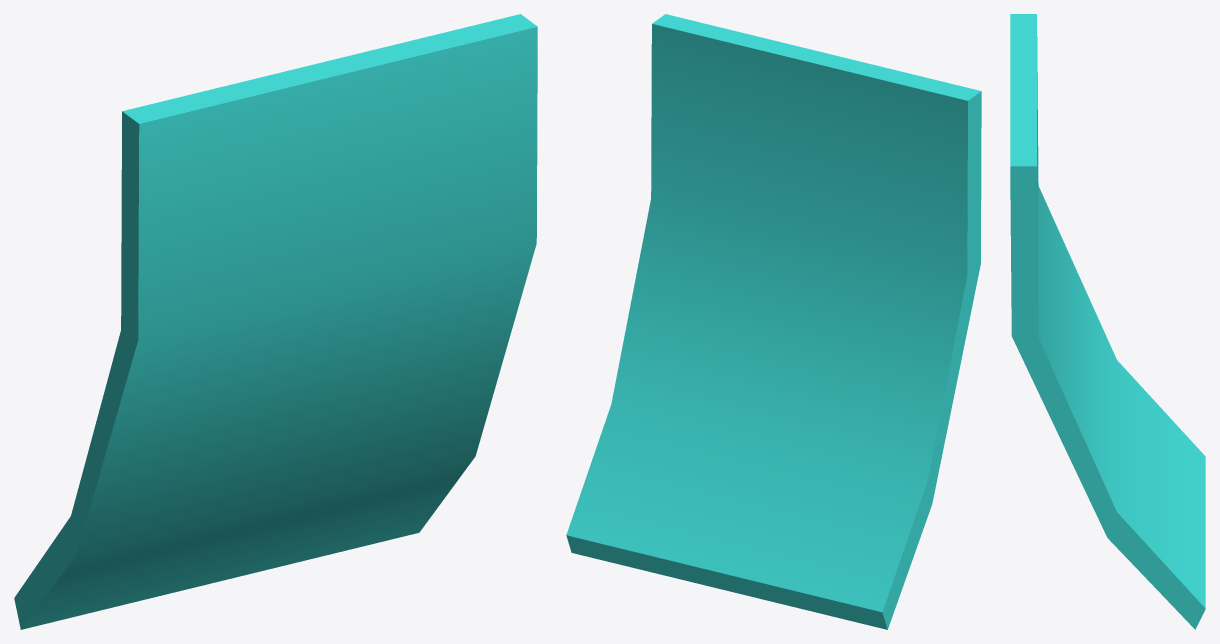
File: post-it3.FBX
3 views of the same model, side by side, from view 1: azimuth 30°, elevation 25°; view 2: azimuth 150°, elevation 25°; view 3: azimuth 270°, elevation 25° (orthographic). The views are drawn at different scales.
Parts seen in each view (by area): view 1: Box004; view 2: Box004; view 3: Box004.
Boxes of the visible parts, x1,y1,x2,y2 form: Box004: (14,14,537,629); Box004: (566,14,981,629); Box004: (1010,14,1205,629).
Bounding box in the file's own units: 0.5804 × 0.8249 × 0.3153.
